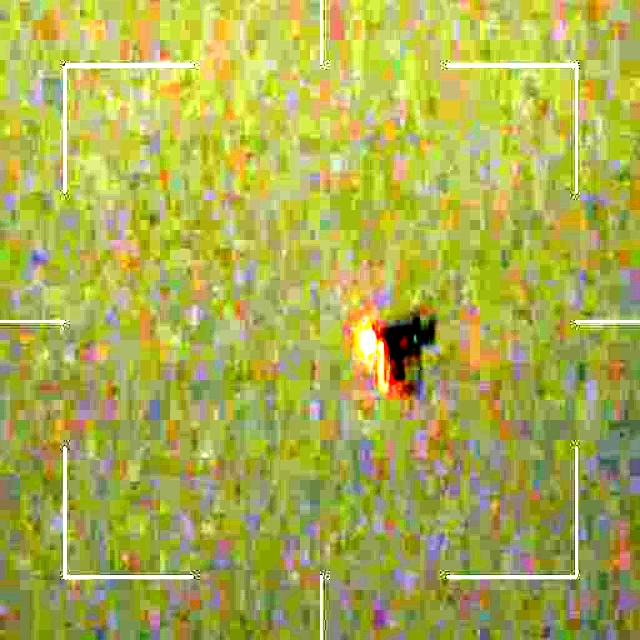bird: (351, 308, 444, 389)
